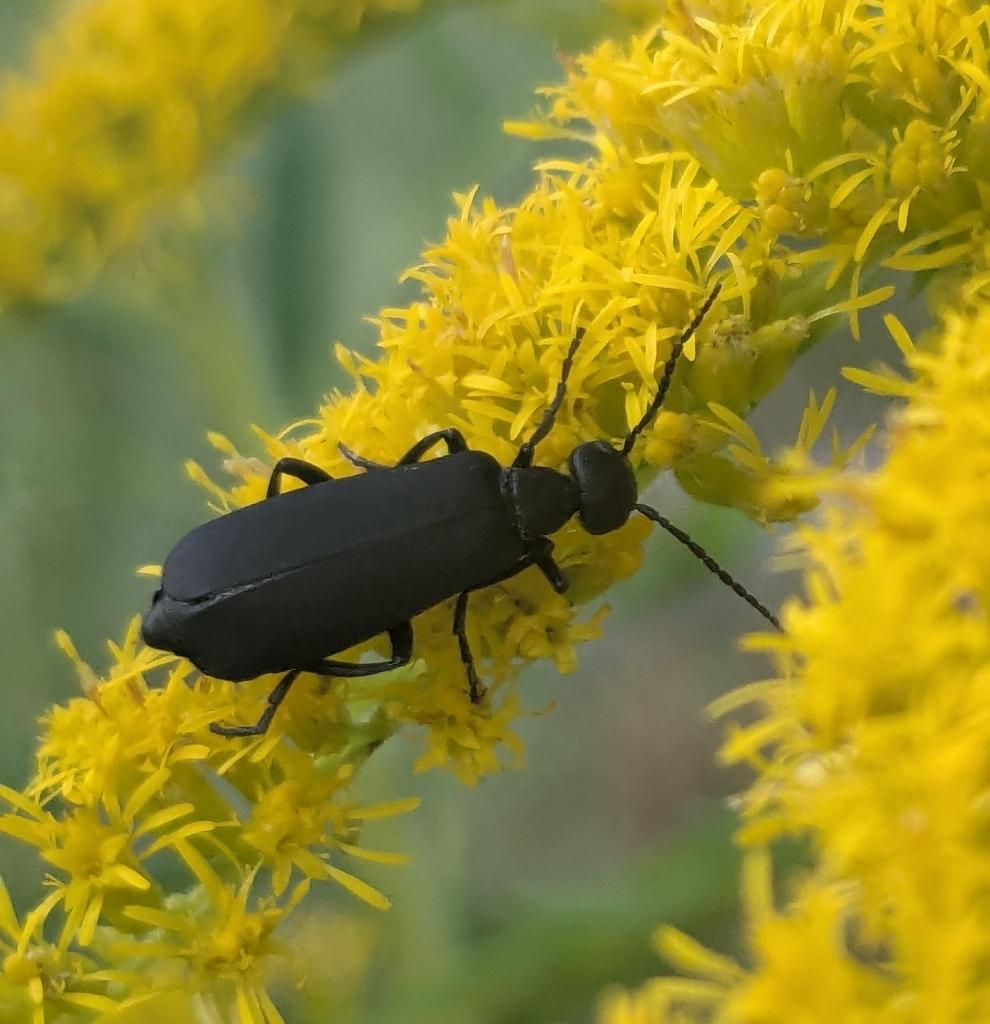blister_beetle: (36, 217, 888, 828)
